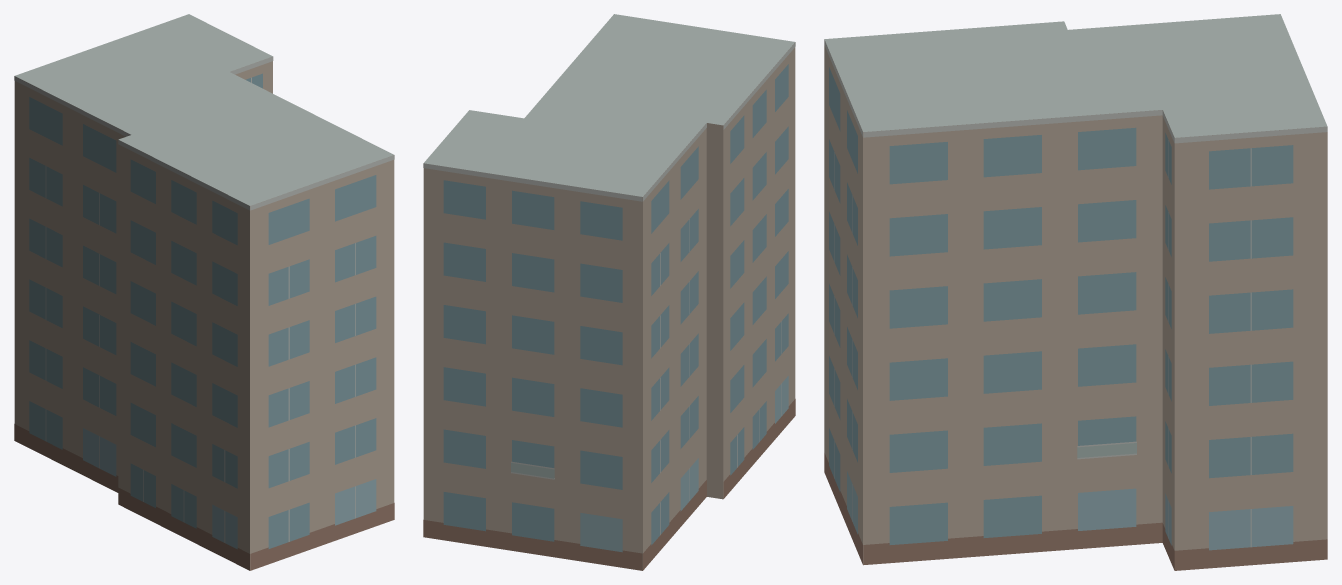
File: survey-upis-33038395.glb
The picture shows the model from 3 angles, left to right: view 1: azimuth 30°, elevation 25°; view 2: azimuth 150°, elevation 25°; view 3: azimuth 270°, elevation 25°; orthographic projection. The views are drawn at different scales.
Visible parts, largest first — view 1: survey-upis-33038395.tmp; view 2: survey-upis-33038395.tmp; view 3: survey-upis-33038395.tmp.
Part boxes in pixels (box(x1,y1,x2,y2)): survey-upis-33038395.tmp: box(14, 14, 394, 570); survey-upis-33038395.tmp: box(423, 14, 795, 570); survey-upis-33038395.tmp: box(824, 14, 1327, 570).
Bounding box in the file's own units: 11.71 × 19.06 × 20.09.
